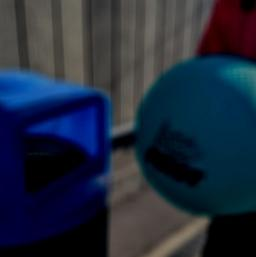algae: (133, 51, 256, 213)
